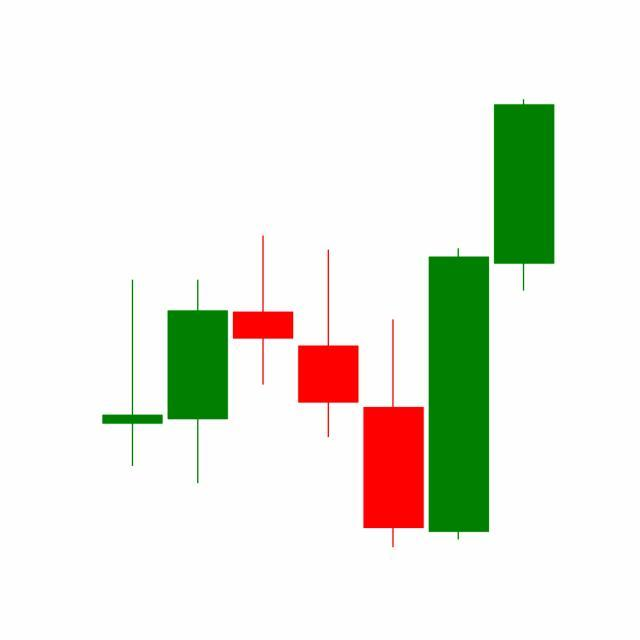Three Line Strike: (230, 232, 492, 549)
